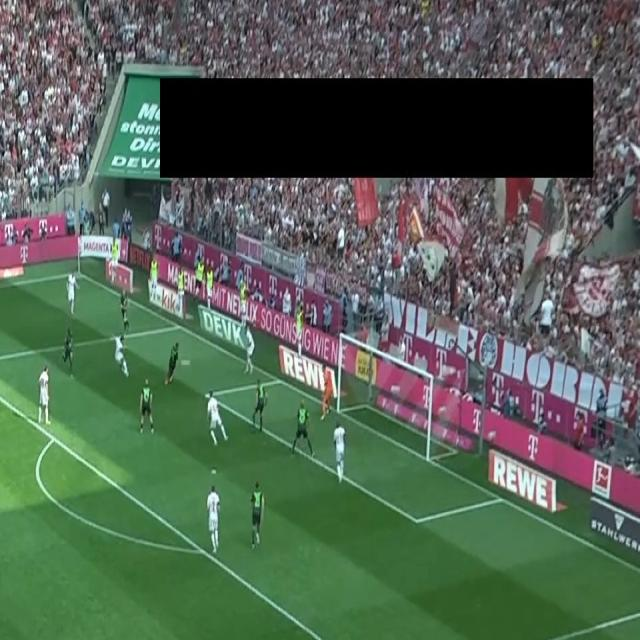ball: (177, 356, 192, 371)
